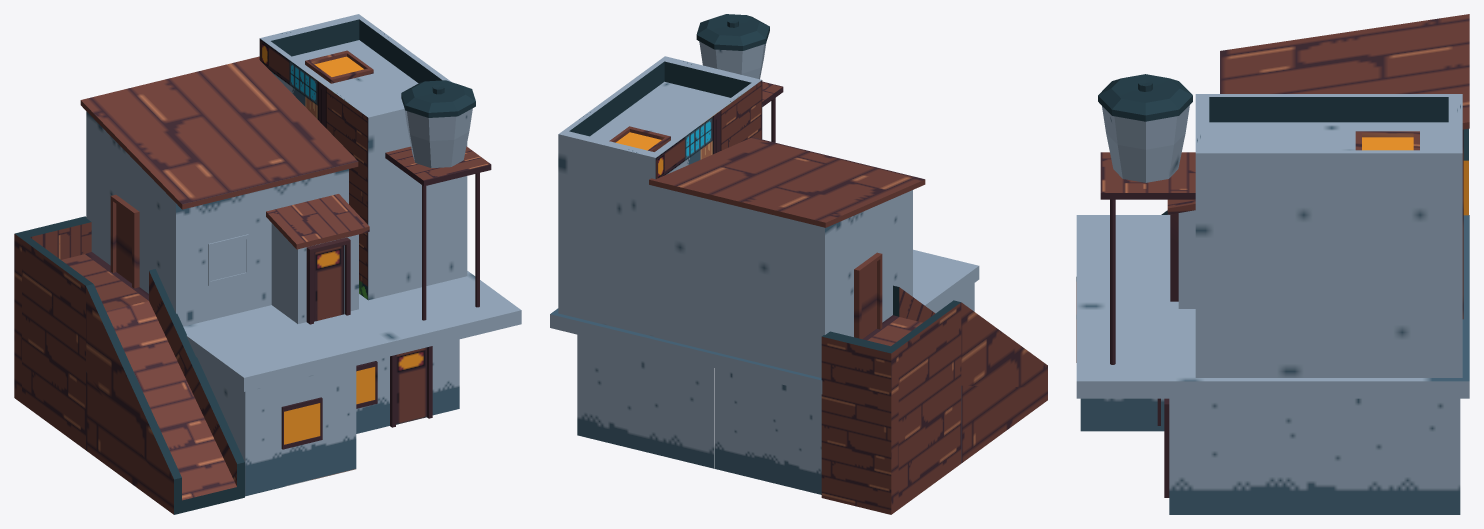
File: Casa5_Erick_2608.fbx
3 renders of one model, left to right at view 1: azimuth 30°, elevation 25°; view 2: azimuth 150°, elevation 25°; view 3: azimuth 270°, elevation 25°, orthographic. The views are drawn at different scales.
Visible parts, largest first — view 1: Casa5; view 2: Casa5; view 3: Casa5.
Boxes of the visible parts, <box> form: Casa5: <box>14,14,521,514</box>; Casa5: <box>550,14,1047,514</box>; Casa5: <box>1076,14,1469,514</box>.
Size of the model in its own units: 879 by 700 by 814.
